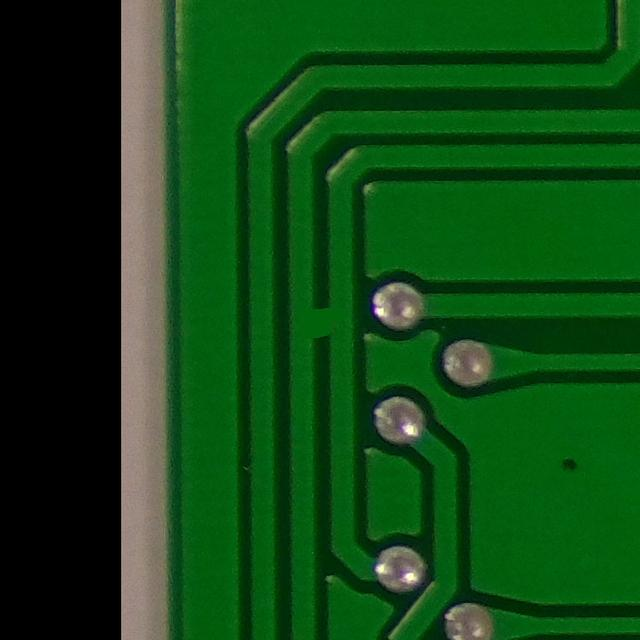short: (279, 280, 360, 361)
